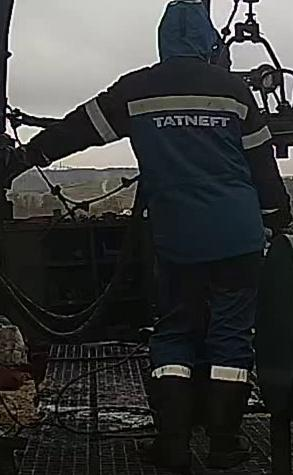vest: (83, 56, 270, 263)
